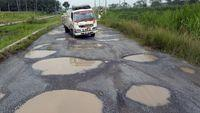Pothole: (8, 86, 106, 113), (116, 78, 174, 108), (27, 57, 112, 76), (49, 28, 116, 49), (117, 50, 164, 65), (24, 41, 55, 61), (95, 22, 126, 41), (176, 57, 200, 80)
